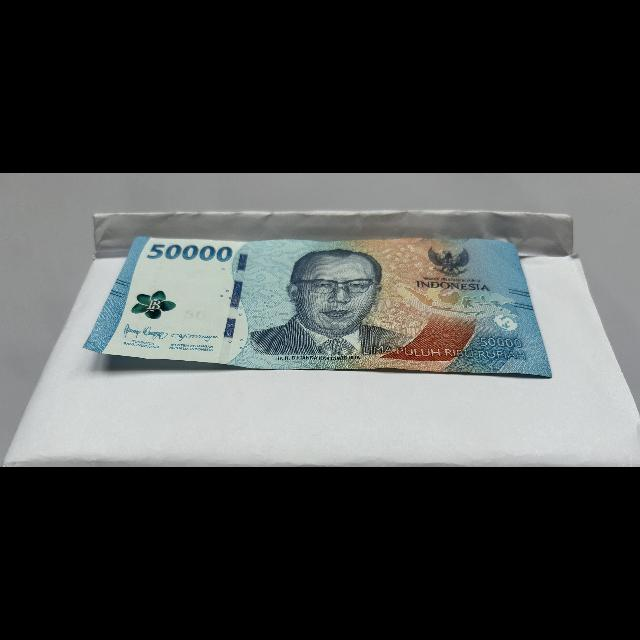Asli-50k: (73, 231, 559, 382)
Tinta-Asli-50k: (128, 289, 180, 322)
